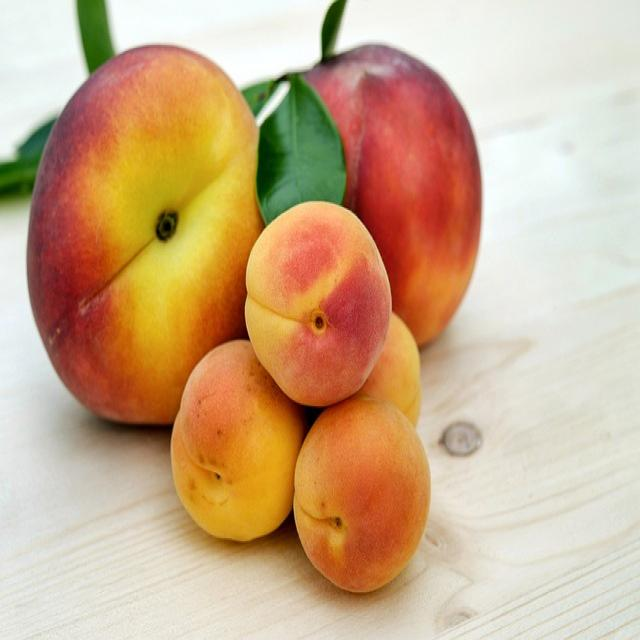kayisi: (175, 203, 470, 605)
kayisi-yapragi: (255, 73, 352, 200)
